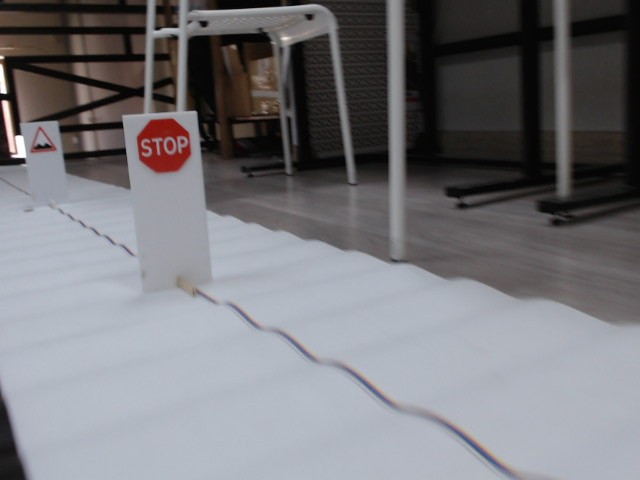Stop: (137, 118, 192, 174)
